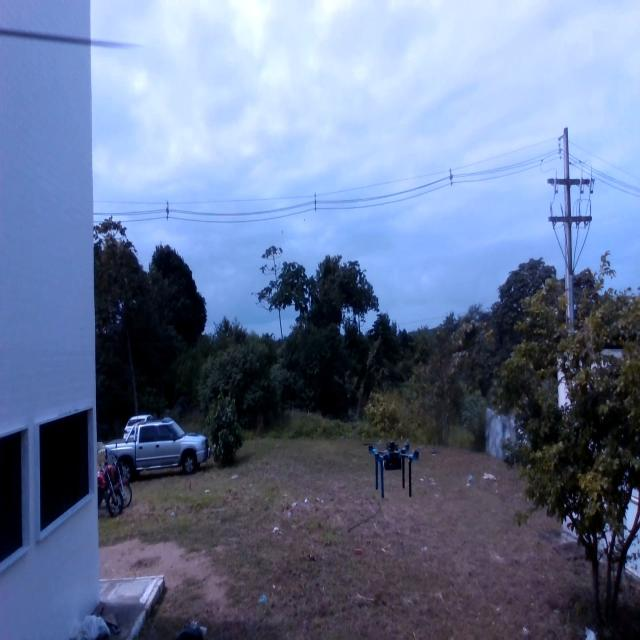-uav-: (363, 421, 422, 511)
